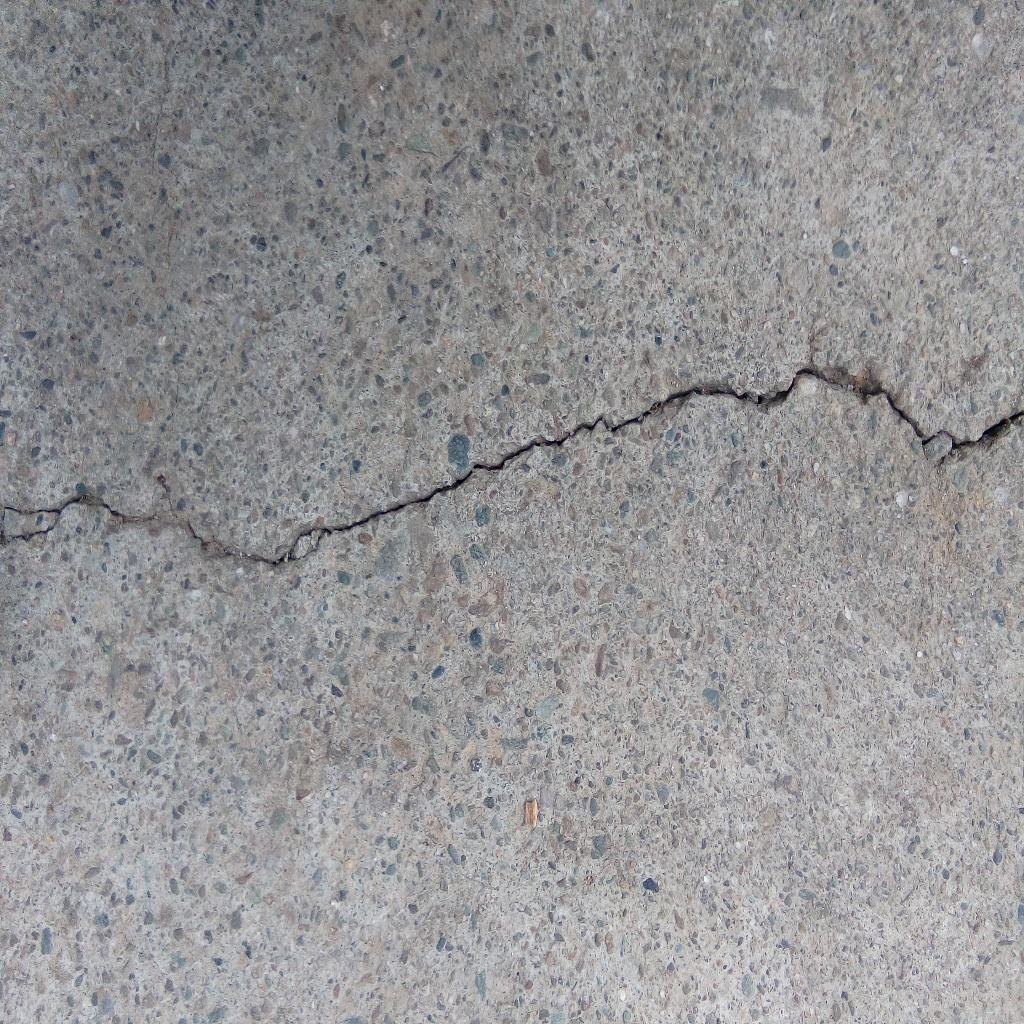Crack: (1, 364, 1024, 567)
